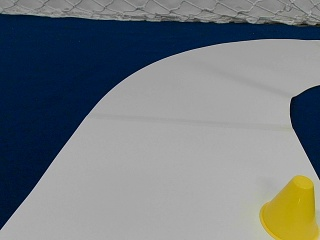cone: (259, 176, 318, 238)
